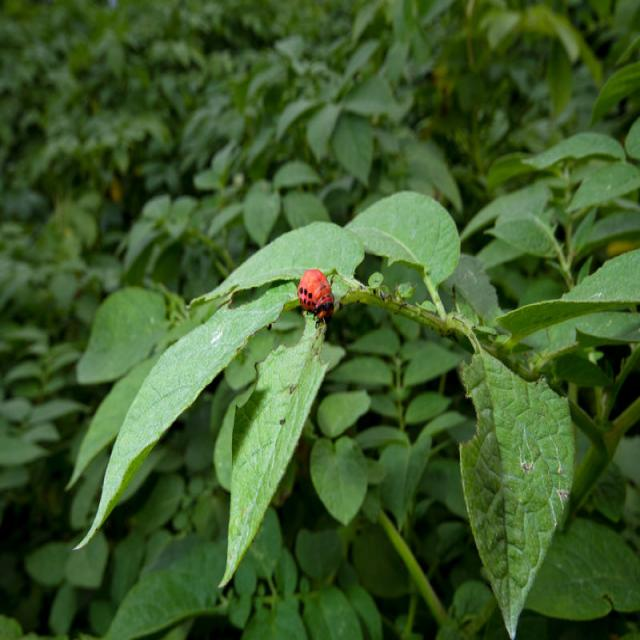ShuCaiHuaBanChong-Larva-: (288, 260, 347, 332)
